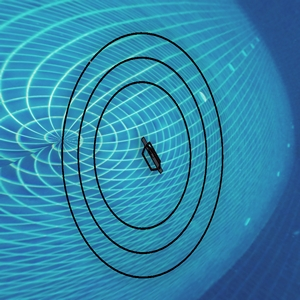submarine: (142, 145, 166, 173)
